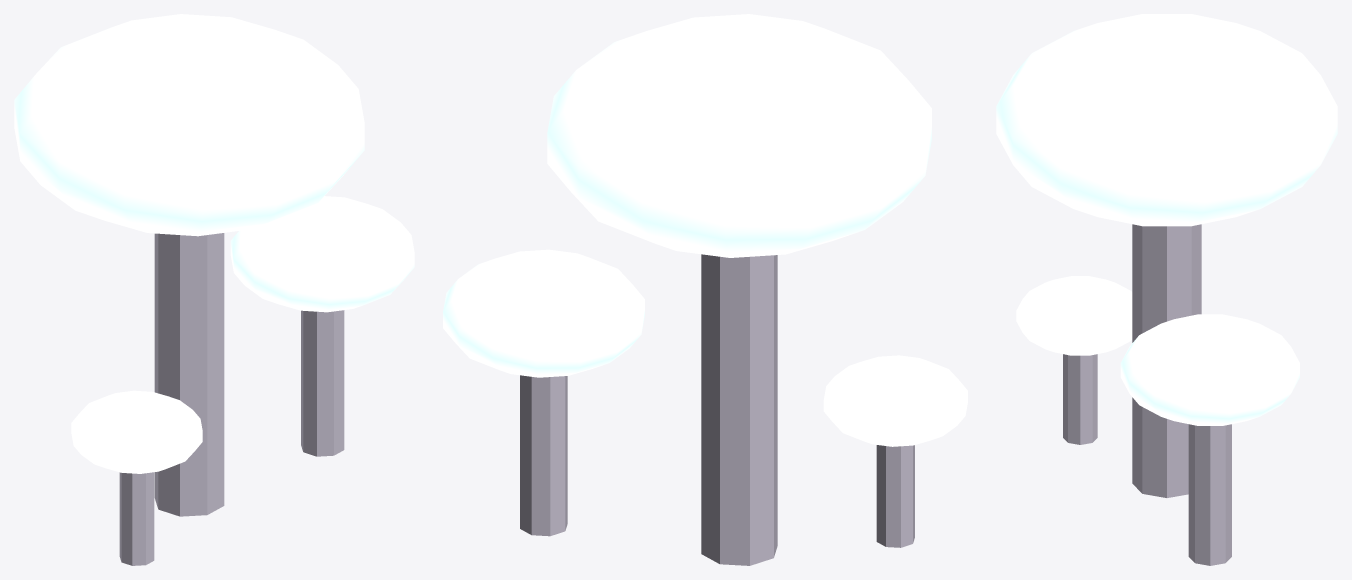
File: alien__glowshroom.fbx
3 renders of one model, left to right at view 1: azimuth 30°, elevation 25°; view 2: azimuth 150°, elevation 25°; view 3: azimuth 270°, elevation 25°, orthographic. The views are drawn at different scales.
Visible parts, largest first — view 1: alien__glowshroom; view 2: alien__glowshroom; view 3: alien__glowshroom.
Boxes of the visible parts, <box> form: alien__glowshroom: <box>14,14,414,565</box>; alien__glowshroom: <box>443,14,967,565</box>; alien__glowshroom: <box>996,14,1337,565</box>.
Size of the model in its own units: 1.99 by 2.25 by 1.58.
